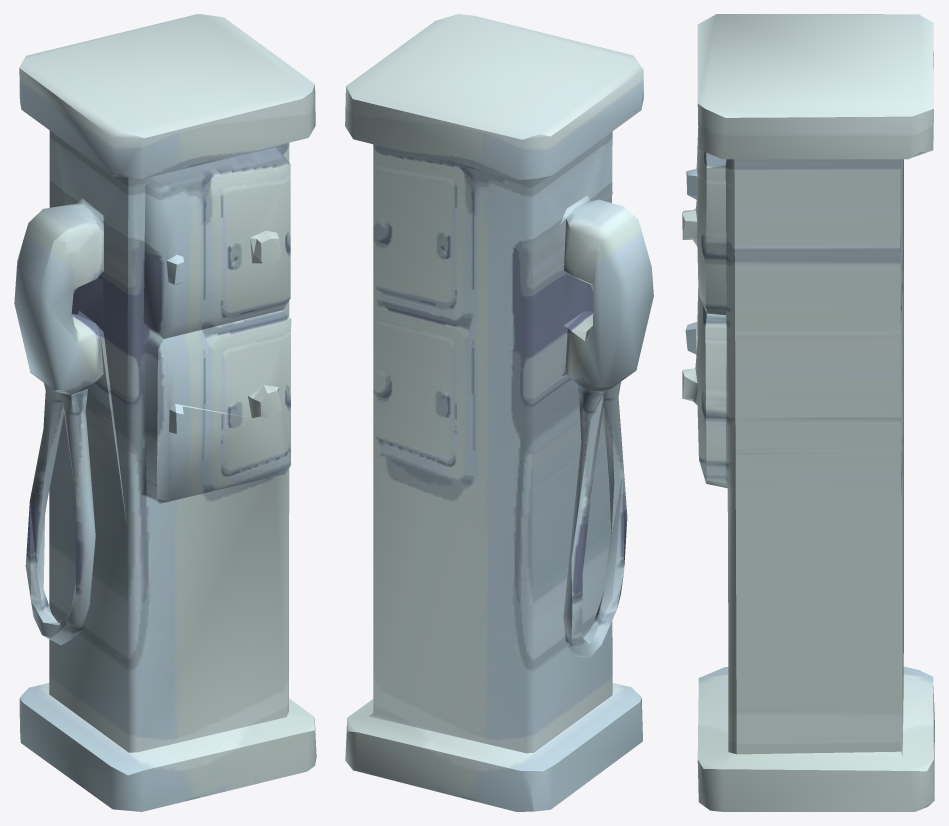
3 renders of one model, left to right at view 1: azimuth 30°, elevation 25°; view 2: azimuth 150°, elevation 25°; view 3: azimuth 270°, elevation 25°, orthographic. The views are drawn at different scales.
Parts seen in each view (by area): view 1: Decor_charging_station; view 2: Decor_charging_station; view 3: Decor_charging_station.
Part boxes in pixels (x1=…): Decor_charging_station: x1=14, y1=14, x2=316, y2=811; Decor_charging_station: x1=345, y1=14, x2=653, y2=811; Decor_charging_station: x1=682, y1=14, x2=934, y2=811.
Bounding box in the file's own units: 0.6103 × 1.6 × 0.5216.
Materials: 1 (1 with a texture image).
